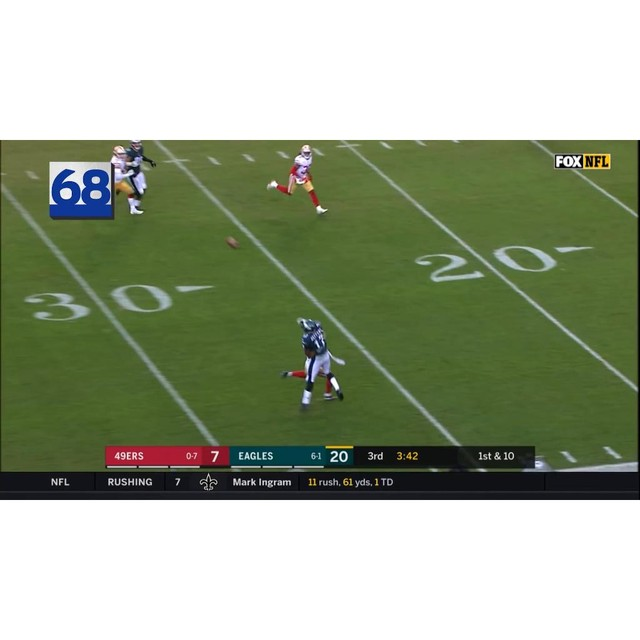american-football-player: (267, 146, 330, 217), (296, 318, 344, 409), (108, 144, 144, 216), (125, 140, 156, 202)
